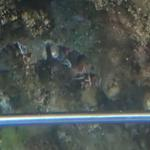dead: (5, 5, 141, 106)
